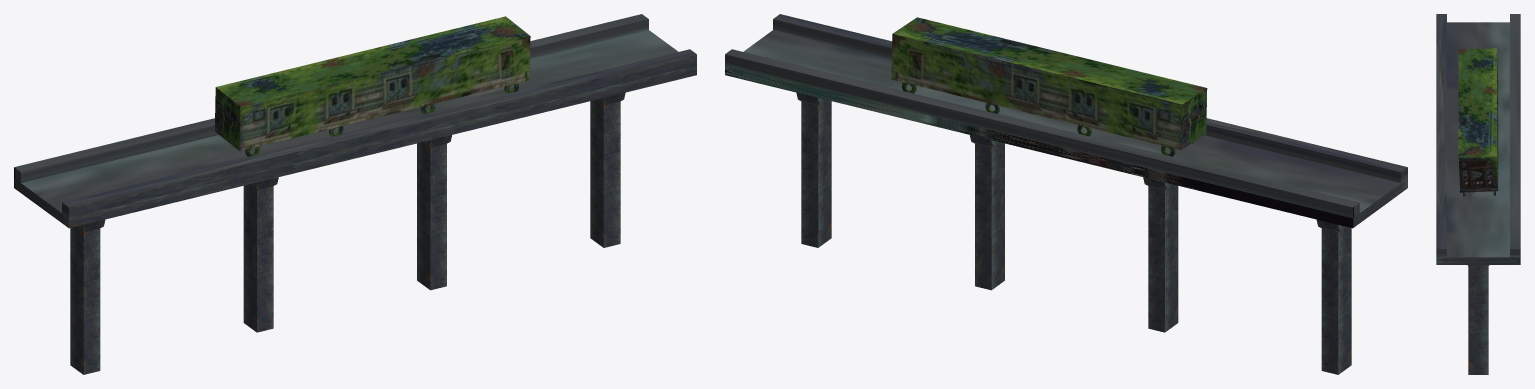
File: TrainTest.fbx
The picture shows the model from 3 angles, left to right: view 1: azimuth 30°, elevation 25°; view 2: azimuth 150°, elevation 25°; view 3: azimuth 270°, elevation 25°; orthographic projection. The views are drawn at different scales.
Parts seen in each view (by area): view 1: Cube, Cube.002, Cube.001; view 2: Cube, Cube.002, Cube.001; view 3: Cube, Cube.002, Cube.001.
Boxes of the visible parts, <box> form: Cube: <box>14,14,696,228</box>; Cube.002: <box>214,16,530,150</box>; Cube.001: <box>70,92,625,374</box>; Cube: <box>725,14,1407,228</box>; Cube.002: <box>891,17,1207,150</box>; Cube.001: <box>796,92,1351,374</box>; Cube: <box>1436,14,1520,264</box>; Cube.002: <box>1458,48,1498,192</box>; Cube.001: <box>1467,265,1489,374</box>.
Bounding box in the file's own units: 2918 × 1054 × 443.
Materials: 1 (1 with a texture image).
